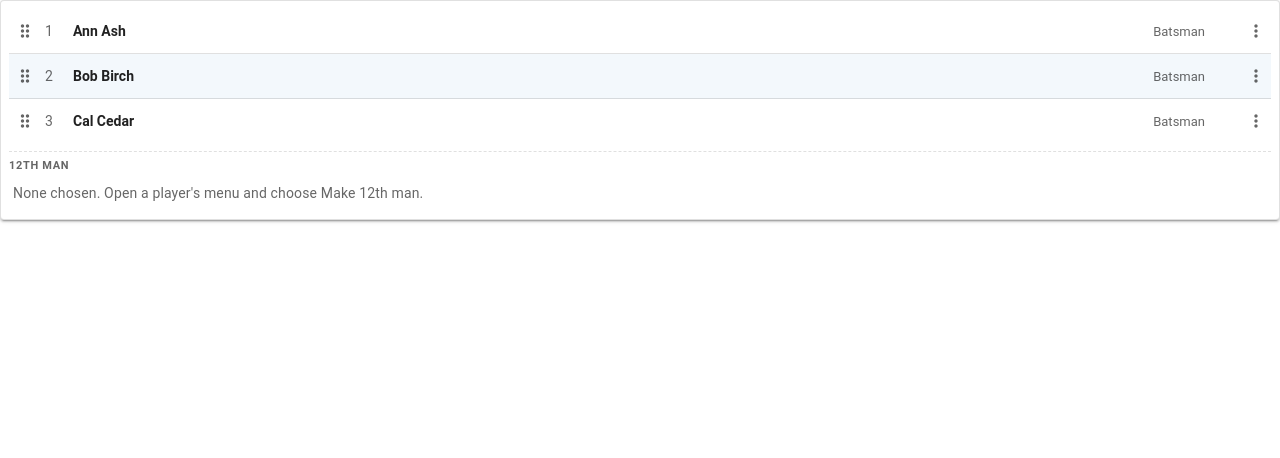
Test: TeamSelectionList › the row menu button opens the same menu as the name
Step 1. Click the button named "Bob Birch, more actions" → [1256, 76], box [1241,61,1271,91]
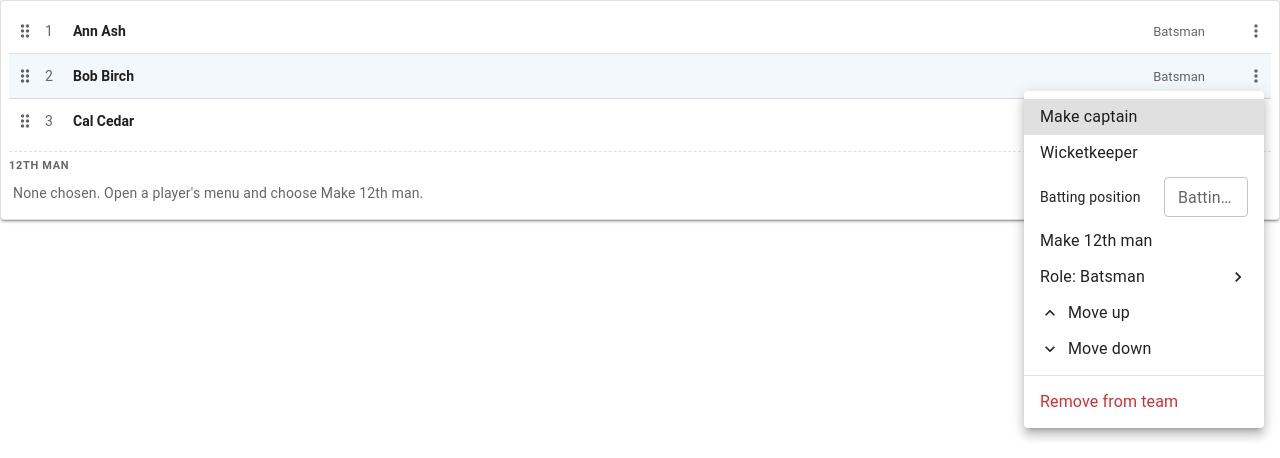
expect the menu item "Make captain" is shown: met, box [1024,99,1264,135]
